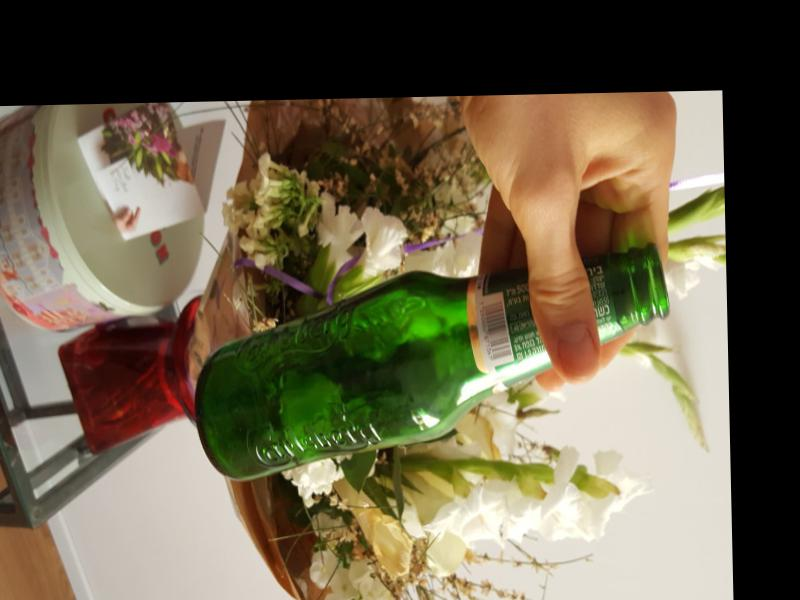Beer: (192, 265, 672, 481)
